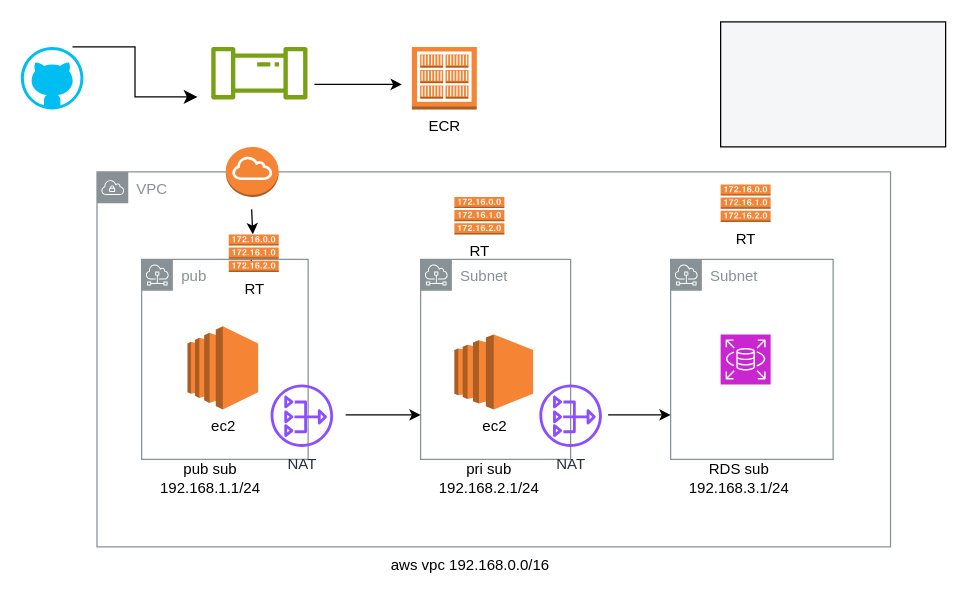
Some shapes in this 969 by 606 pixel diagram are drawn without their labels. Each missing label, with the centre of its shape:
"Git" goes at (x=51, y=77).
"IGW" goes at (x=252, y=171).
"Jenkins CI/CD" goes at (x=259, y=72).
"RDS EC2" goes at (x=745, y=358).
"Security Group Rules - EC2: 22,8080 - Backend: 80 - DB: 3306" goes at (x=832, y=84).
